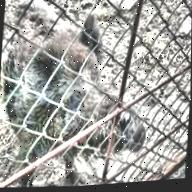boar: (0, 0, 164, 192)
